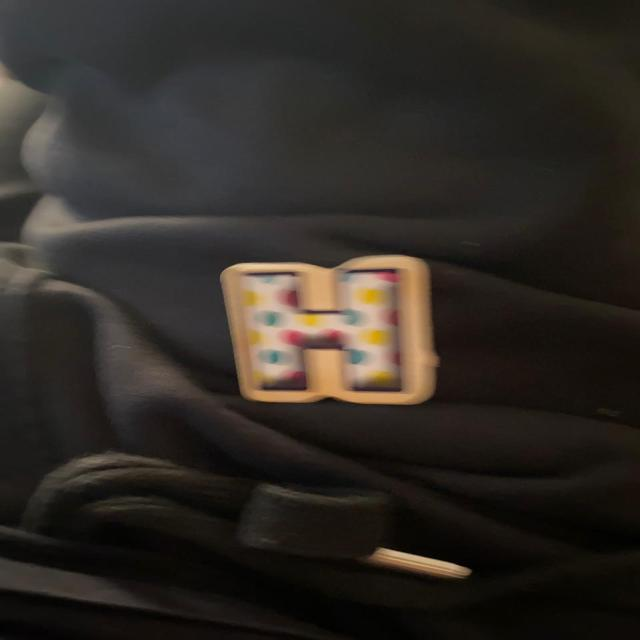H: (221, 256, 437, 404)
